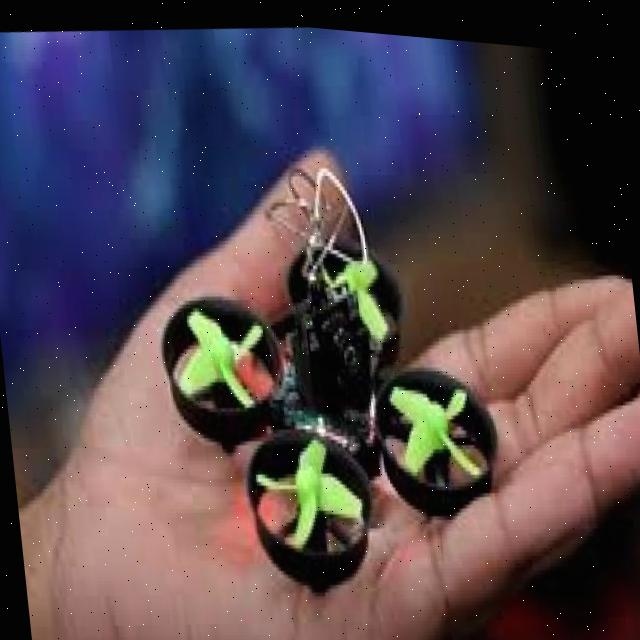drone: (139, 133, 518, 631)
